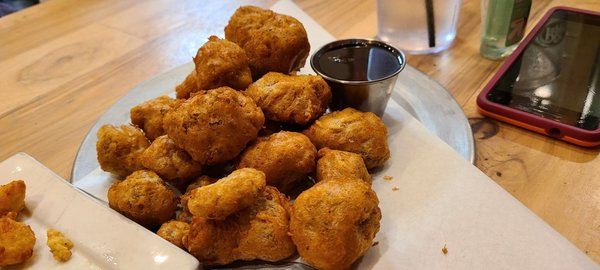pizza: (376, 0, 463, 56)
sushi: (309, 38, 406, 119)
